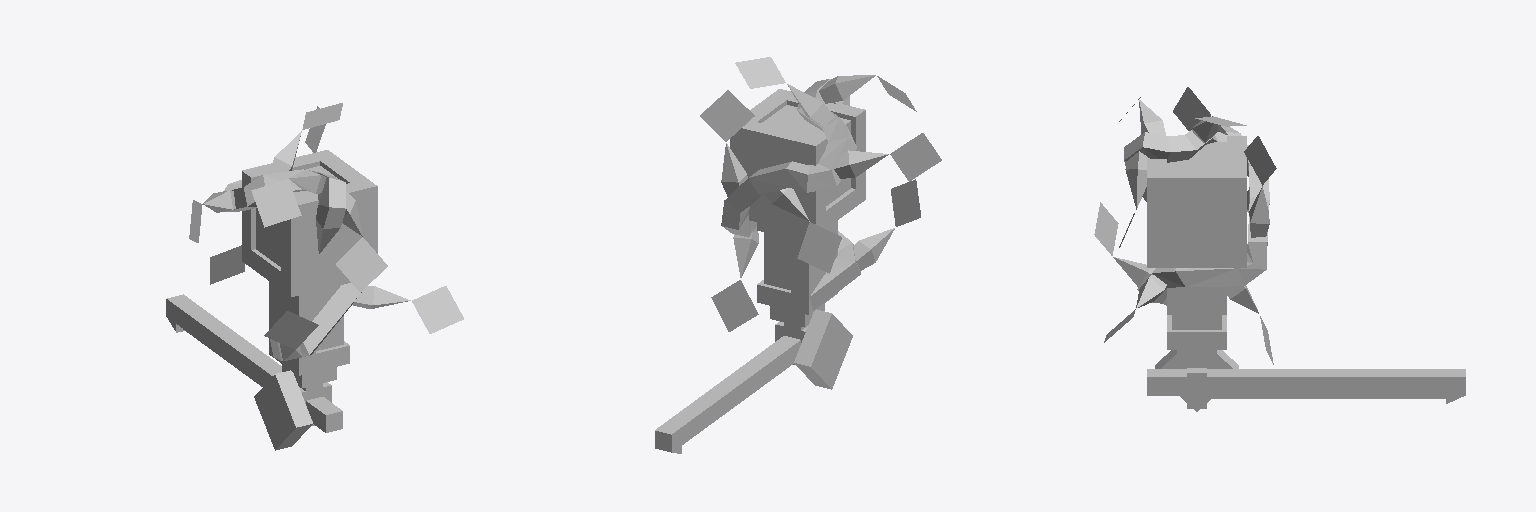
Rendered from arm_fisher_l.obj.
3 renders of one model, left to right at view 1: azimuth 30°, elevation 25°; view 2: azimuth 150°, elevation 25°; view 3: azimuth 270°, elevation 25°, orthographic.
Visible parts, largest first — view 1: ARM_LEFT_FISHER_Cube.010, ARM_LEFT_DECO_WOOD_Cube.014; view 2: ARM_LEFT_FISHER_Cube.010, ARM_LEFT_DECO_WOOD_Cube.014; view 3: ARM_LEFT_FISHER_Cube.010, ARM_LEFT_DECO_WOOD_Cube.014.
Boxes of the visible parts, x1,y1,x2,y2 form: ARM_LEFT_FISHER_Cube.010: [166, 150, 377, 450]; ARM_LEFT_DECO_WOOD_Cube.014: [189, 103, 463, 360]; ARM_LEFT_FISHER_Cube.010: [655, 89, 865, 453]; ARM_LEFT_DECO_WOOD_Cube.014: [700, 57, 941, 331]; ARM_LEFT_FISHER_Cube.010: [1147, 136, 1465, 411]; ARM_LEFT_DECO_WOOD_Cube.014: [1094, 87, 1276, 364].
Bounding box in the file's own units: 0.8743 × 1.1 × 1.17.